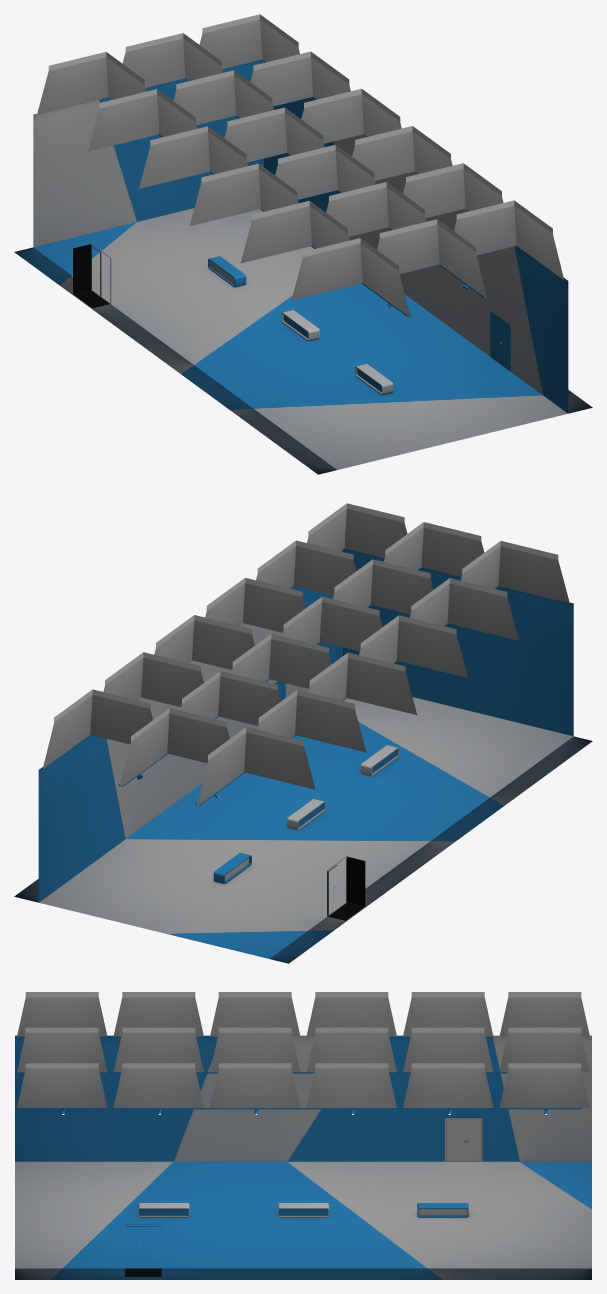
The model's file is vr_modern_gallery_room.glb.
3 renders of one model, top to bottom at view 1: azimuth 30°, elevation 25°; view 2: azimuth 150°, elevation 25°; view 3: azimuth 270°, elevation 25°, orthographic. The views are drawn at different scales.
Visible parts, largest first — view 1: VR Gallery.001; view 2: VR Gallery.001; view 3: VR Gallery.001.
Part boxes in pixels (x1,y1,x2,y2): VR Gallery.001: (14, 14, 592, 474); VR Gallery.001: (14, 503, 592, 963); VR Gallery.001: (15, 992, 591, 1279).
Size of the model in its own units: 12.94 by 8.25 by 24.9.
1 material, 1 textured.
